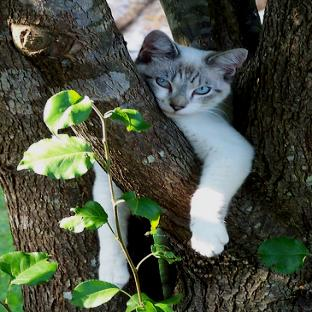Animal: (136, 31, 252, 257), (98, 224, 129, 287), (93, 163, 115, 230), (118, 203, 129, 243)
